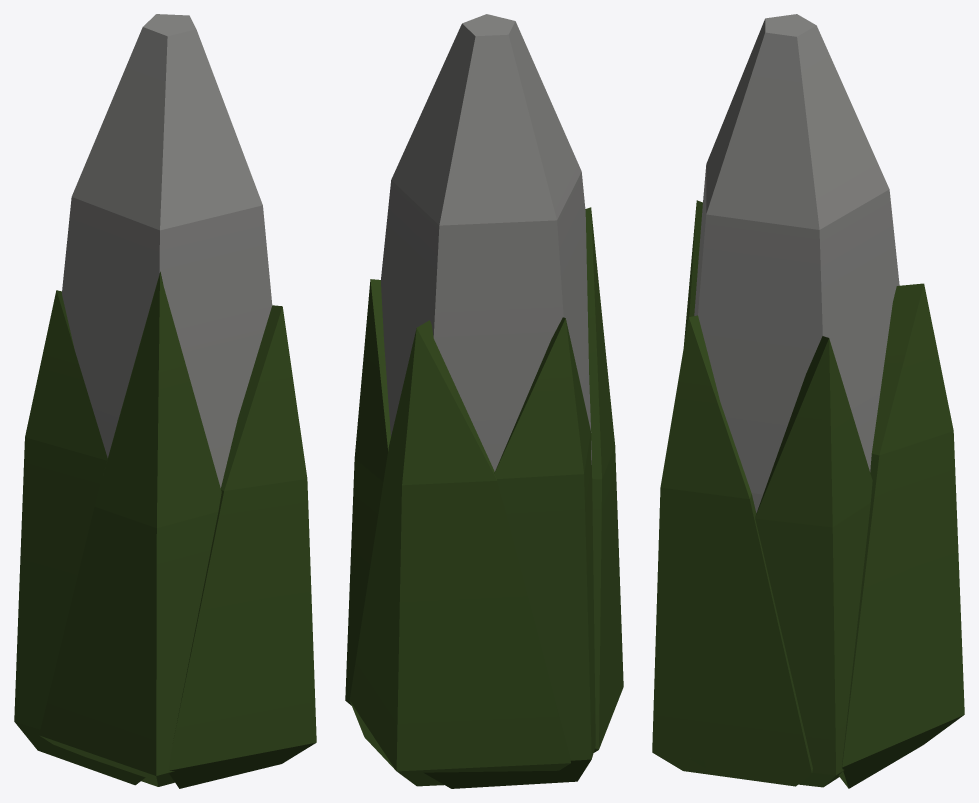
The model's file is Corn_03.fbx.
3 views of the same model, side by side, from view 1: azimuth 30°, elevation 25°; view 2: azimuth 150°, elevation 25°; view 3: azimuth 270°, elevation 25° (orthographic).
Visible parts, largest first — view 1: Corn_03; view 2: Corn_03; view 3: Corn_03.
Part boxes in pixels (box(x1,y1,x2,y2)): Corn_03: box(14, 14, 316, 788); Corn_03: box(345, 14, 623, 788); Corn_03: box(652, 14, 964, 788).
Size of the model in its own units: 0.1065 by 0.2898 by 0.1145.
